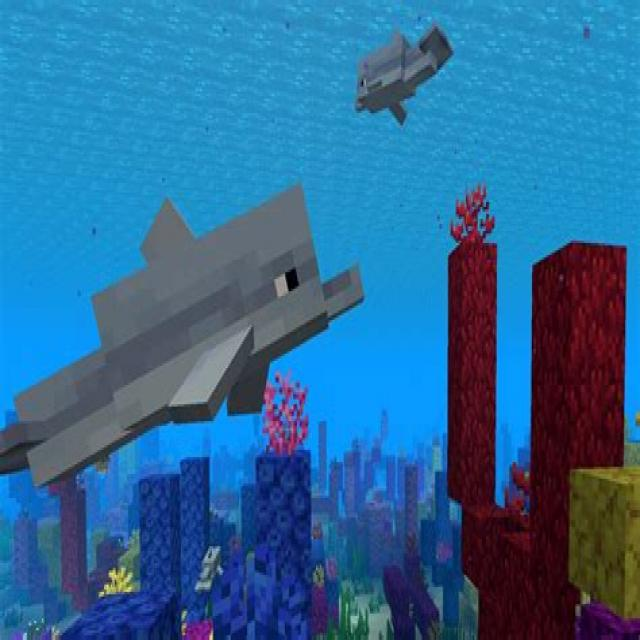Dolphin: (0, 171, 370, 517), (347, 10, 459, 134)
